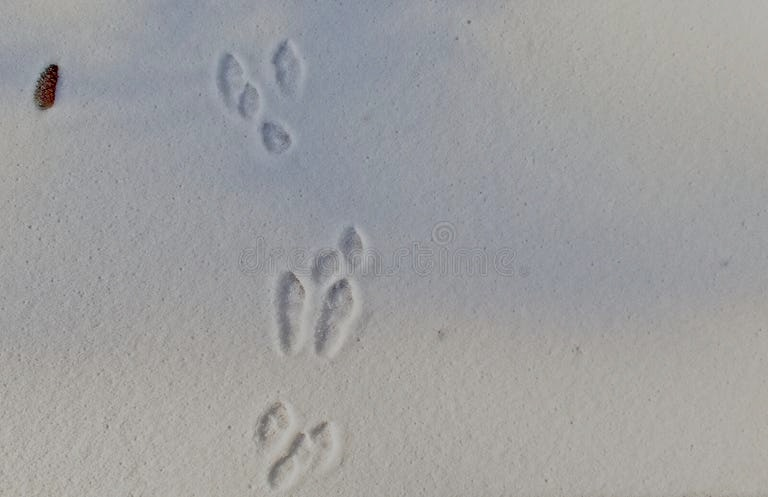rabbit: (189, 37, 349, 170)
